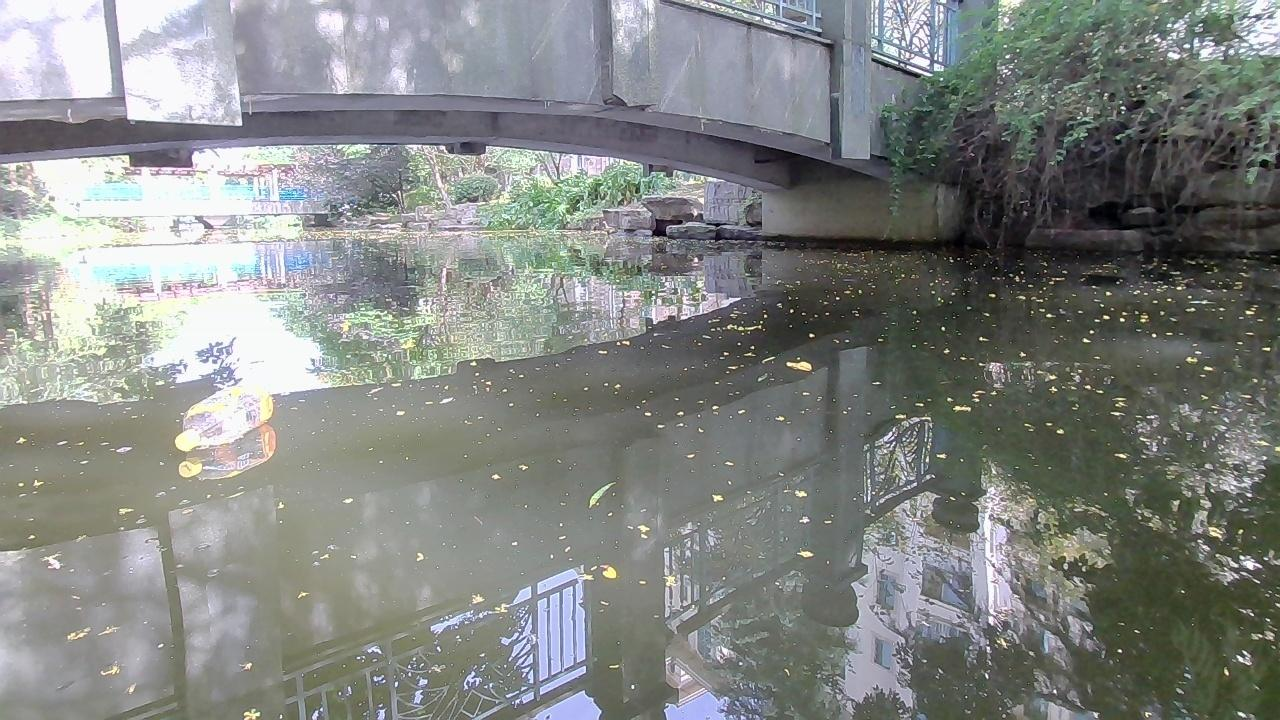bottle: (171, 384, 276, 451)
